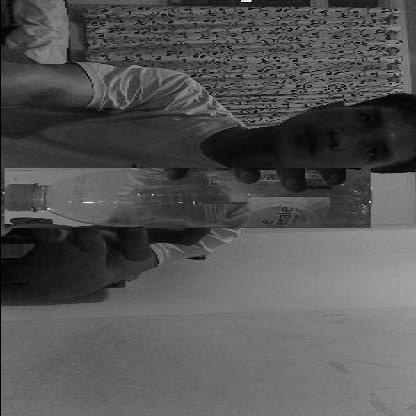plastic_bottles: (4, 168, 370, 229)
